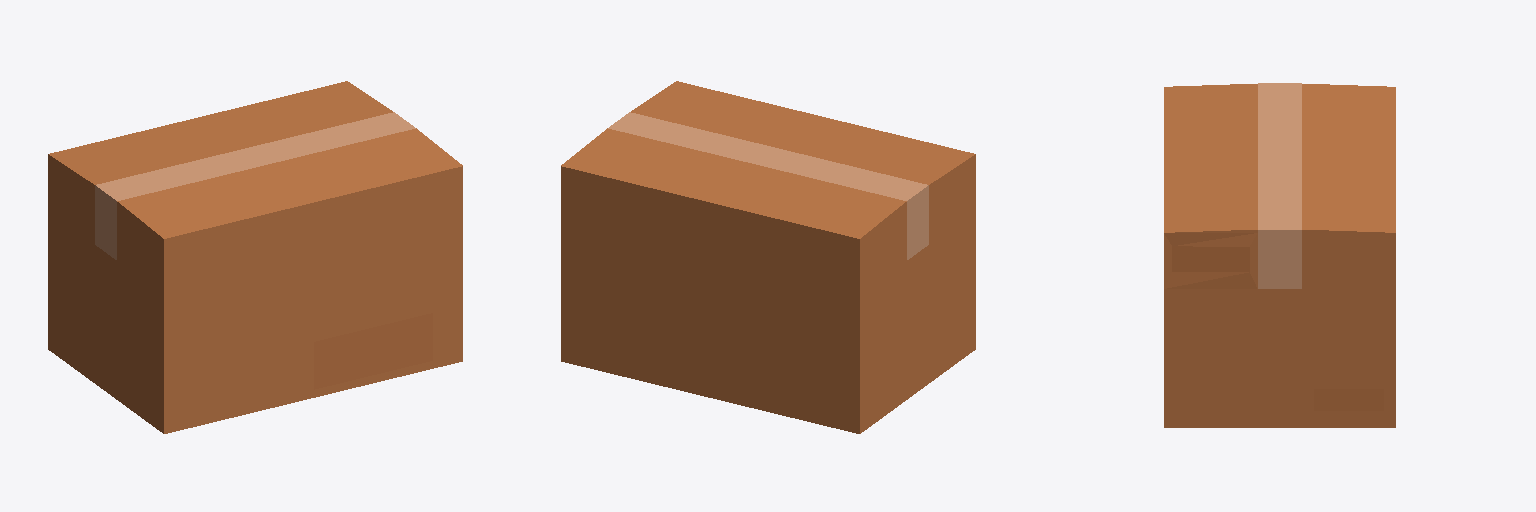
The model's file is loading_box.obj.
3 views of the same model, side by side, from view 1: azimuth 30°, elevation 25°; view 2: azimuth 150°, elevation 25°; view 3: azimuth 270°, elevation 25° (orthographic).
Parts seen in each view (by area): view 1: Cube.018; view 2: Cube.018; view 3: Cube.018.
Part boxes in pixels (left/top/right/bottom): Cube.018: left=48, top=81, right=462, bottom=433; Cube.018: left=561, top=81, right=975, bottom=433; Cube.018: left=1164, top=83, right=1395, bottom=427.
Size of the model in its own units: 1.6 by 1.01 by 1.07.